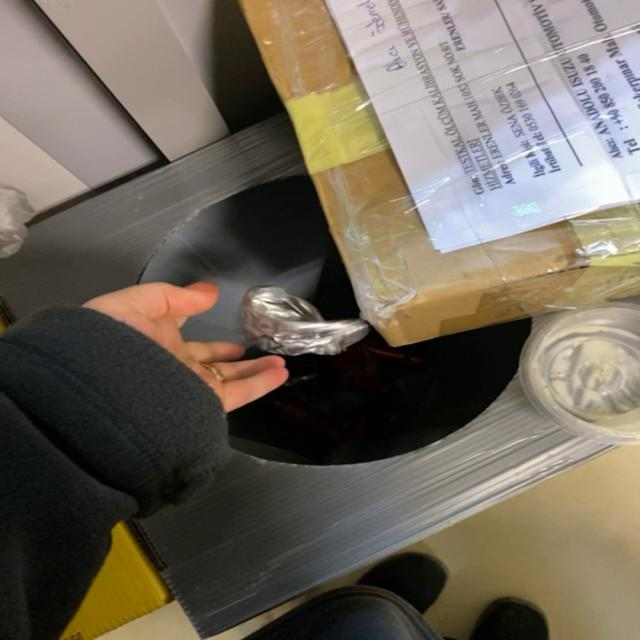bin: (129, 319, 610, 638), (1, 114, 358, 342)
metal: (242, 286, 369, 356)
